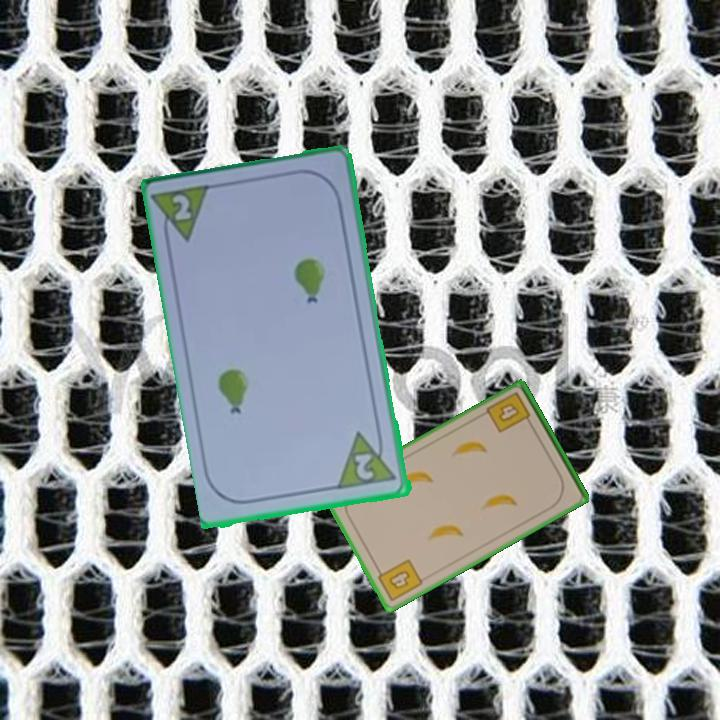2p: (151, 181, 216, 250), (351, 450, 378, 483)
4b: (372, 556, 426, 605), (483, 388, 535, 436)
